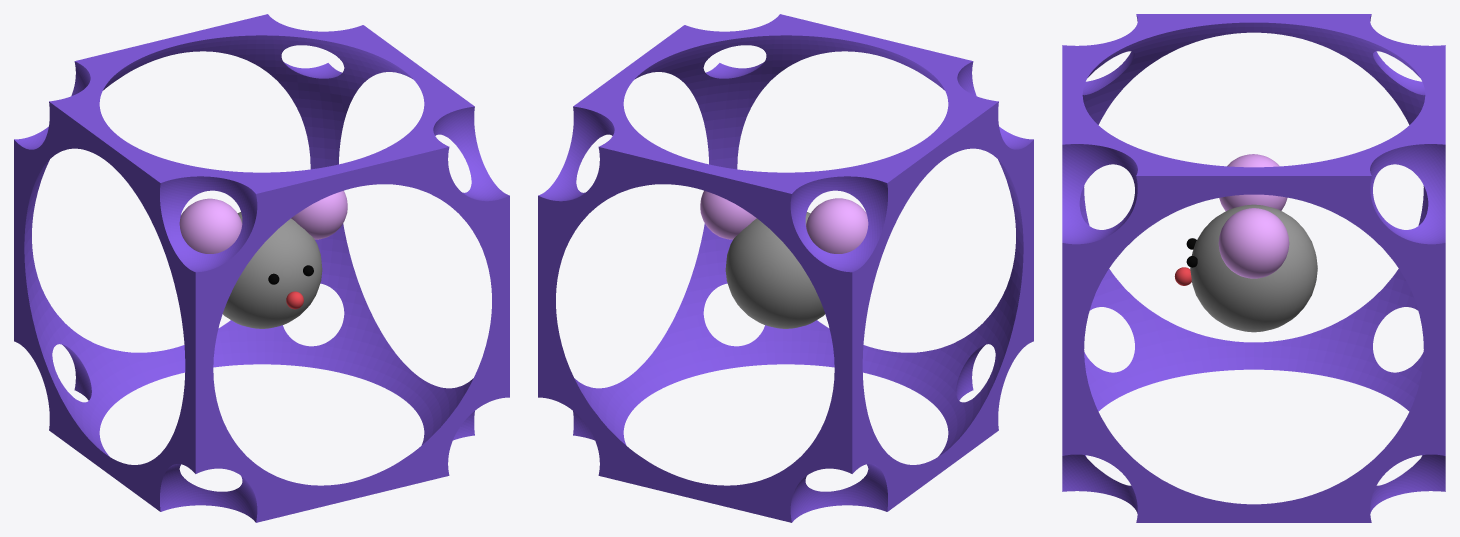
Rendered from mimi.glb.
The picture shows the model from 3 angles, left to right: view 1: azimuth 30°, elevation 25°; view 2: azimuth 150°, elevation 25°; view 3: azimuth 270°, elevation 25°; orthographic projection. The views are drawn at different scales.
Parts seen in each view (by area): view 1: Cell, Head, LeftEar, RightEar; view 2: Cell, Head, LeftEar, RightEar; view 3: Cell, Head, RightEar, LeftEar.
Boxes of the visible parts, left/top/right/bottom form: Cell: left=14, top=14, right=509, bottom=522; Head: left=222, top=212, right=322, bottom=328; LeftEar: left=179, top=198, right=242, bottom=253; RightEar: left=291, top=190, right=347, bottom=239; Cell: left=538, top=14, right=1033, bottom=522; Head: left=725, top=212, right=825, bottom=328; LeftEar: left=806, top=198, right=868, bottom=253; RightEar: left=700, top=190, right=756, bottom=239; Cell: left=1062, top=14, right=1445, bottom=522; Head: left=1190, top=204, right=1317, bottom=332; RightEar: left=1218, top=208, right=1289, bottom=278; LeftEar: left=1219, top=154, right=1287, bottom=210.
Bounding box in the file's own units: 6 × 6 × 6.
